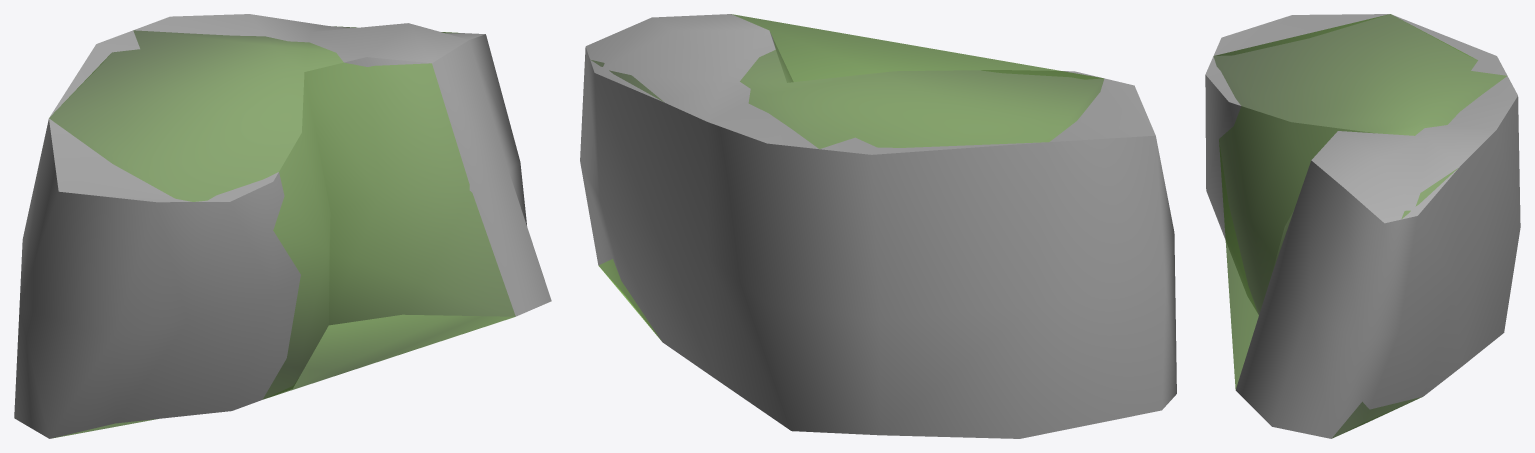
Rendered from pg_Steak_04.fbx.
3 renders of one model, left to right at view 1: azimuth 30°, elevation 25°; view 2: azimuth 150°, elevation 25°; view 3: azimuth 270°, elevation 25°, orthographic. The views are drawn at different scales.
Parts seen in each view (by area): view 1: pg_Steak_04_a_LOD0, pg_Steak_04_a_col; view 2: pg_Steak_04_a_LOD0, pg_Steak_04_a_col; view 3: pg_Steak_04_a_LOD0, pg_Steak_04_a_col.
Boxes of the visible parts, left/top/right/bottom form: pg_Steak_04_a_LOD0: left=14, top=14, right=551, bottom=438; pg_Steak_04_a_col: left=49, top=26, right=515, bottom=438; pg_Steak_04_a_LOD0: left=580, top=14, right=1176, bottom=438; pg_Steak_04_a_col: left=591, top=14, right=1103, bottom=339; pg_Steak_04_a_LOD0: left=1205, top=14, right=1520, bottom=438; pg_Steak_04_a_col: left=1213, top=14, right=1506, bottom=438.
Size of what is drawn, in the model's own units: 19.73 by 10.03 by 11.35.
